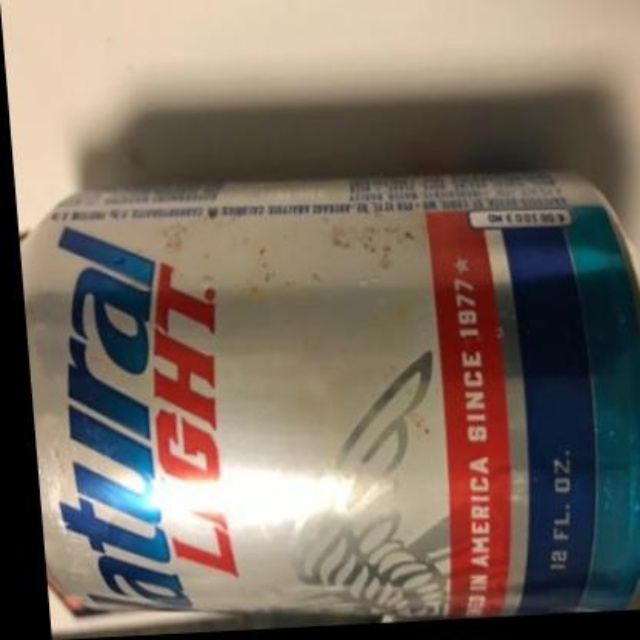trash: (23, 174, 638, 635)
